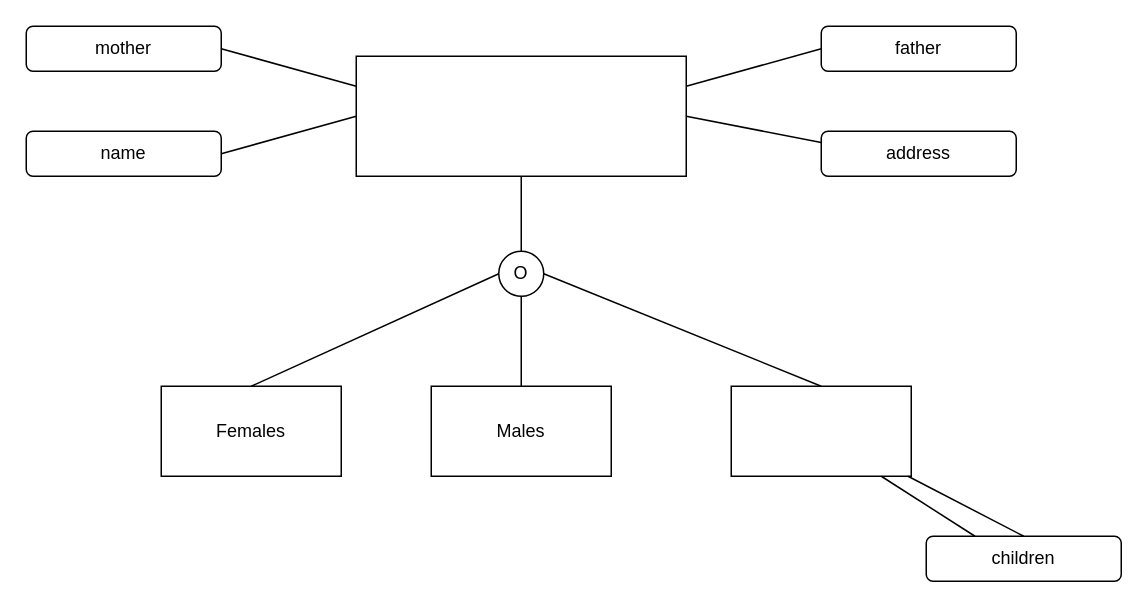
Some shapes in this 1148 by 608 pixel diagram are drawn without their labels. The shapes that lost their labels are listed below. From the top down, each one's centre as x and y in pixels, then its label:
the point at 520,115: Persons
the point at 820,430: People who are parents
